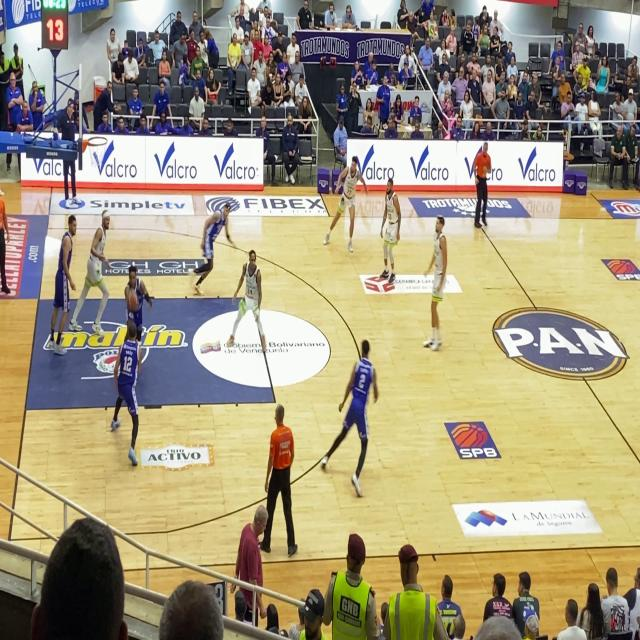Ball: (128, 286, 139, 312)
referee: (268, 394, 298, 556), (470, 135, 495, 234)
team1: (232, 239, 274, 366), (422, 203, 450, 355), (85, 206, 115, 337), (373, 178, 405, 289), (333, 142, 363, 249)
team2: (331, 328, 370, 503), (110, 314, 152, 471), (42, 209, 81, 358), (197, 181, 233, 320), (125, 257, 156, 327)
ubasket: (86, 130, 108, 152)
